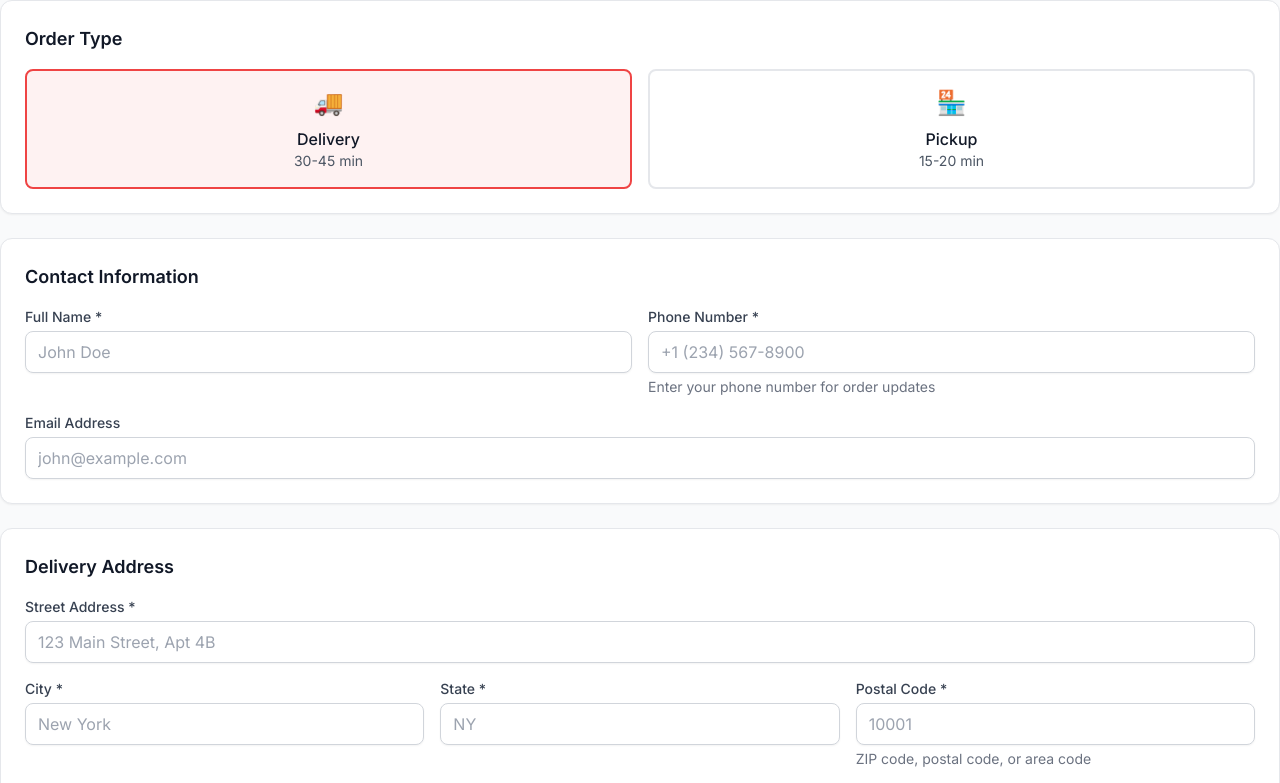
Test: CheckoutForm Validation › Required Field Validation › should validate name field is required
Click the field with placeholder "John Doe" at coordinates (328, 352), box 25,331 -> 632,373
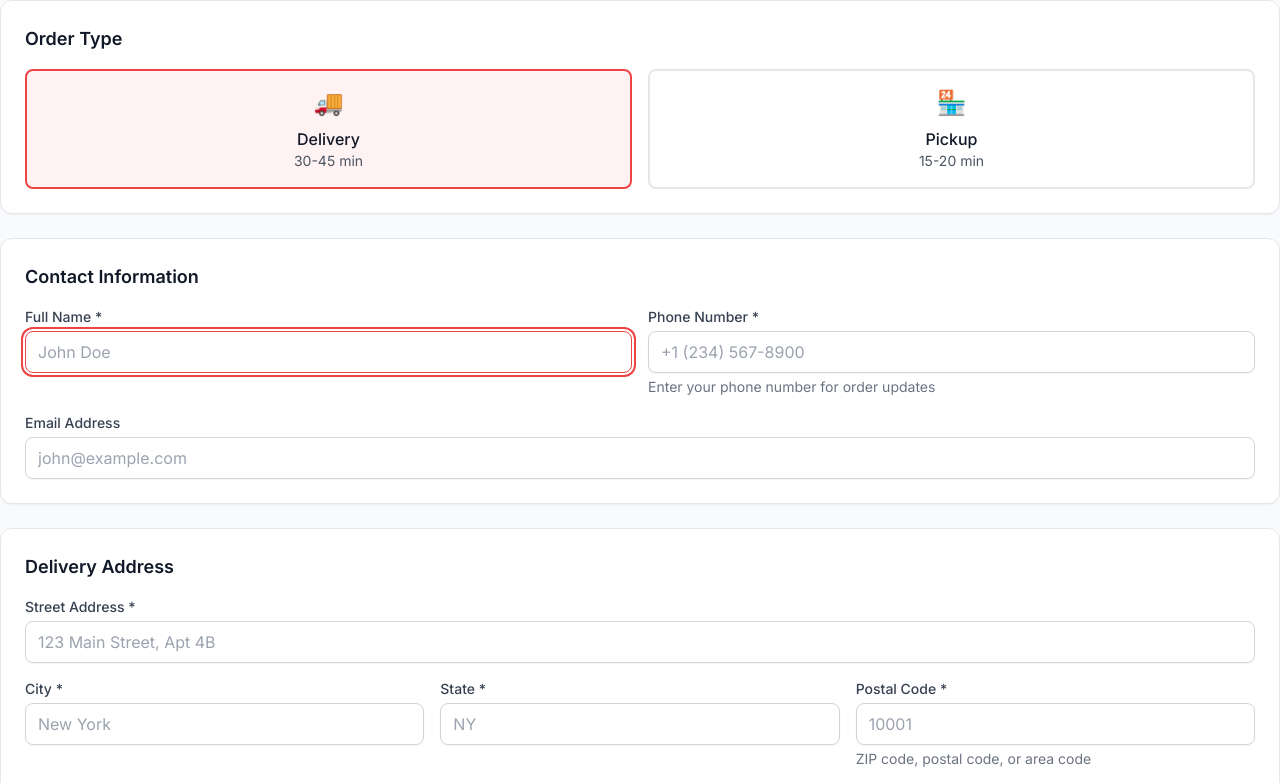
Press Tab
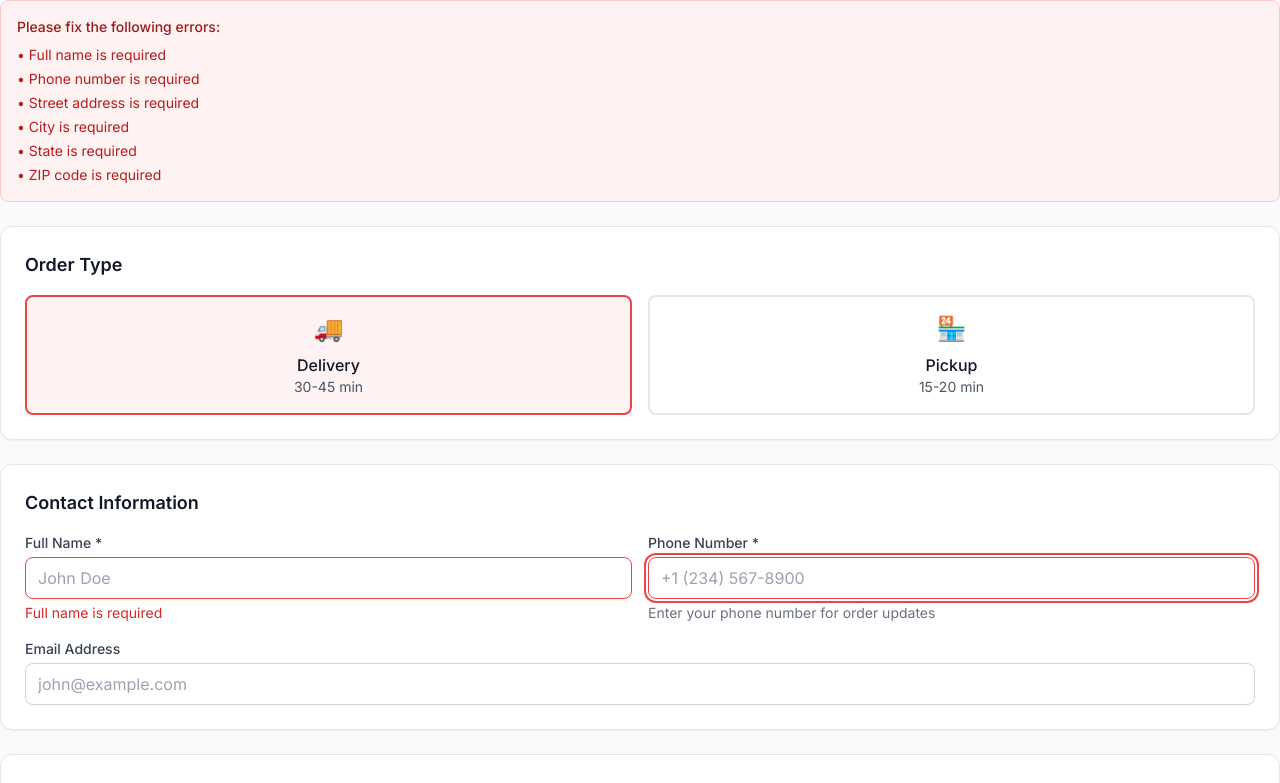
Expected: the text "Full name is required" is shown, 25,604 -> 162,621
